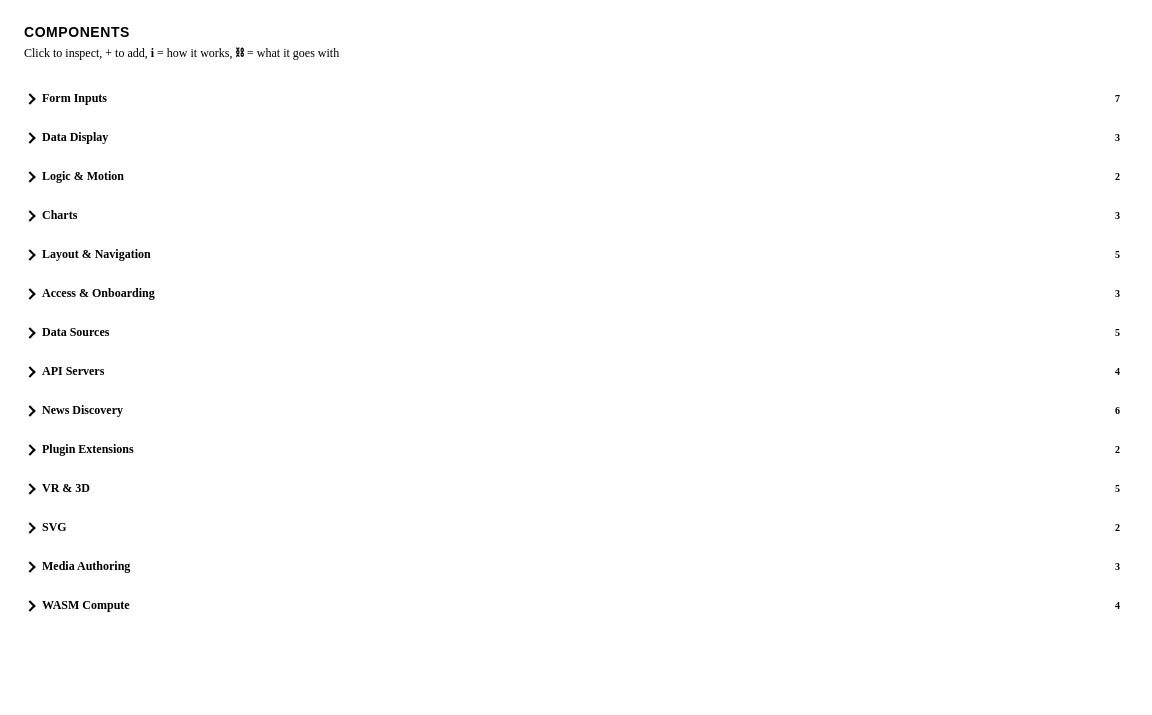
Test: PaletteComponent › expands a group and shows component rows
Click the button with test id "palette-group-toggle-data-display": (75, 137) [20,120,1132,155]
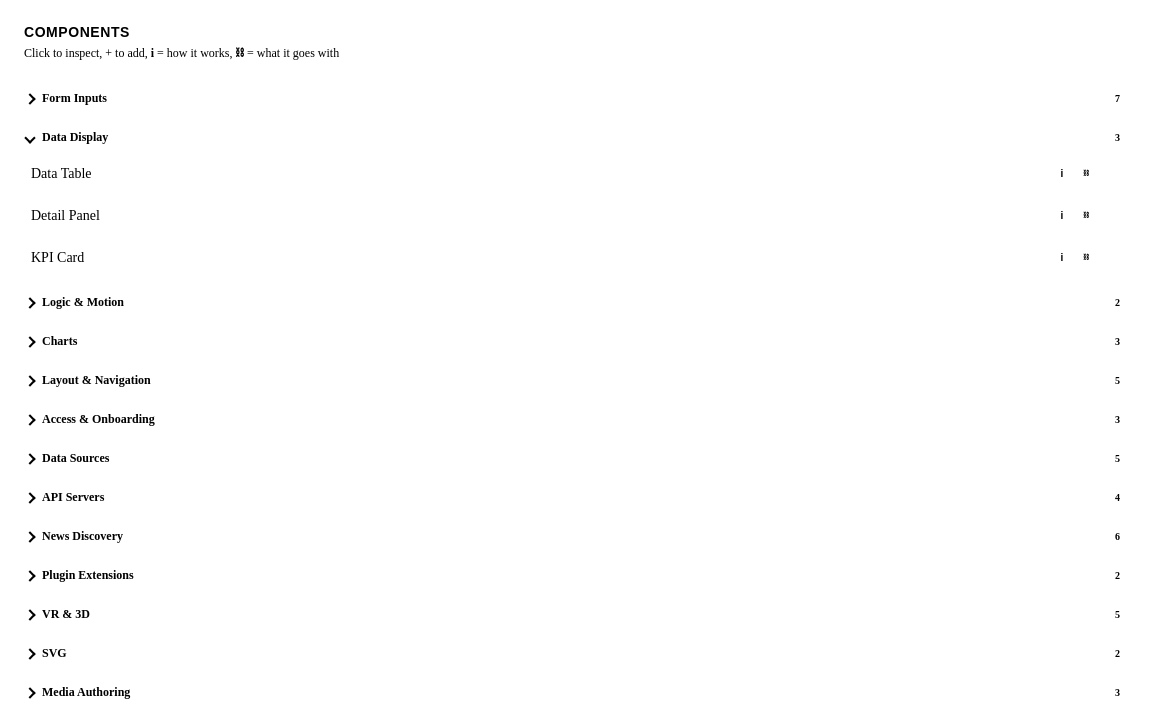
Now the list with test id "palette-group-panel-data-display" is shown, box [20,155,1132,277]
Now the text "Data Table" is shown, box [31,166,92,181]
